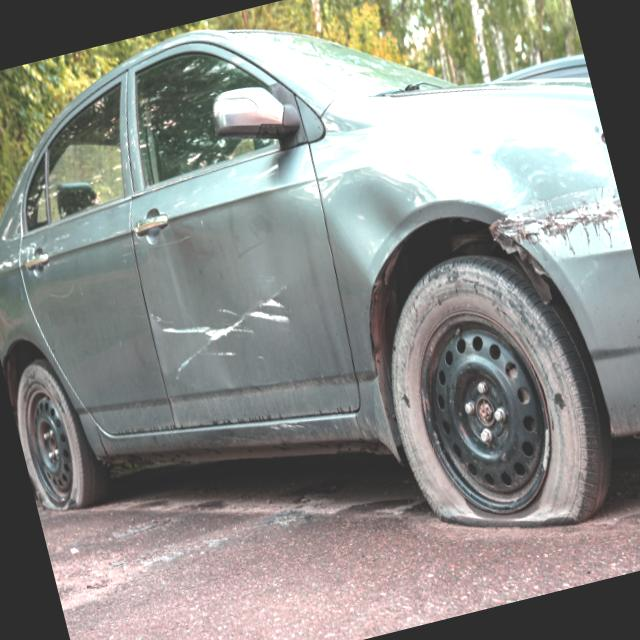Cabossage: (209, 354, 246, 399)
Dechirure: (488, 174, 631, 277)
Rayure: (148, 275, 311, 390), (46, 280, 85, 303)
